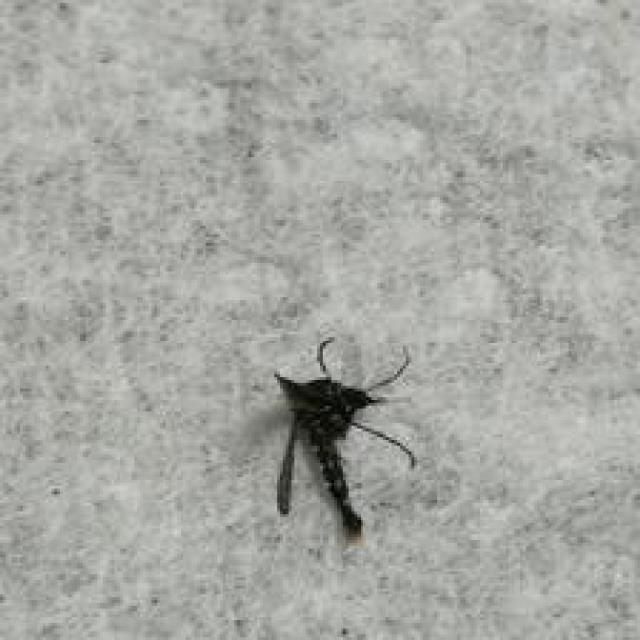Aedes albopictus: (272, 334, 417, 543)
